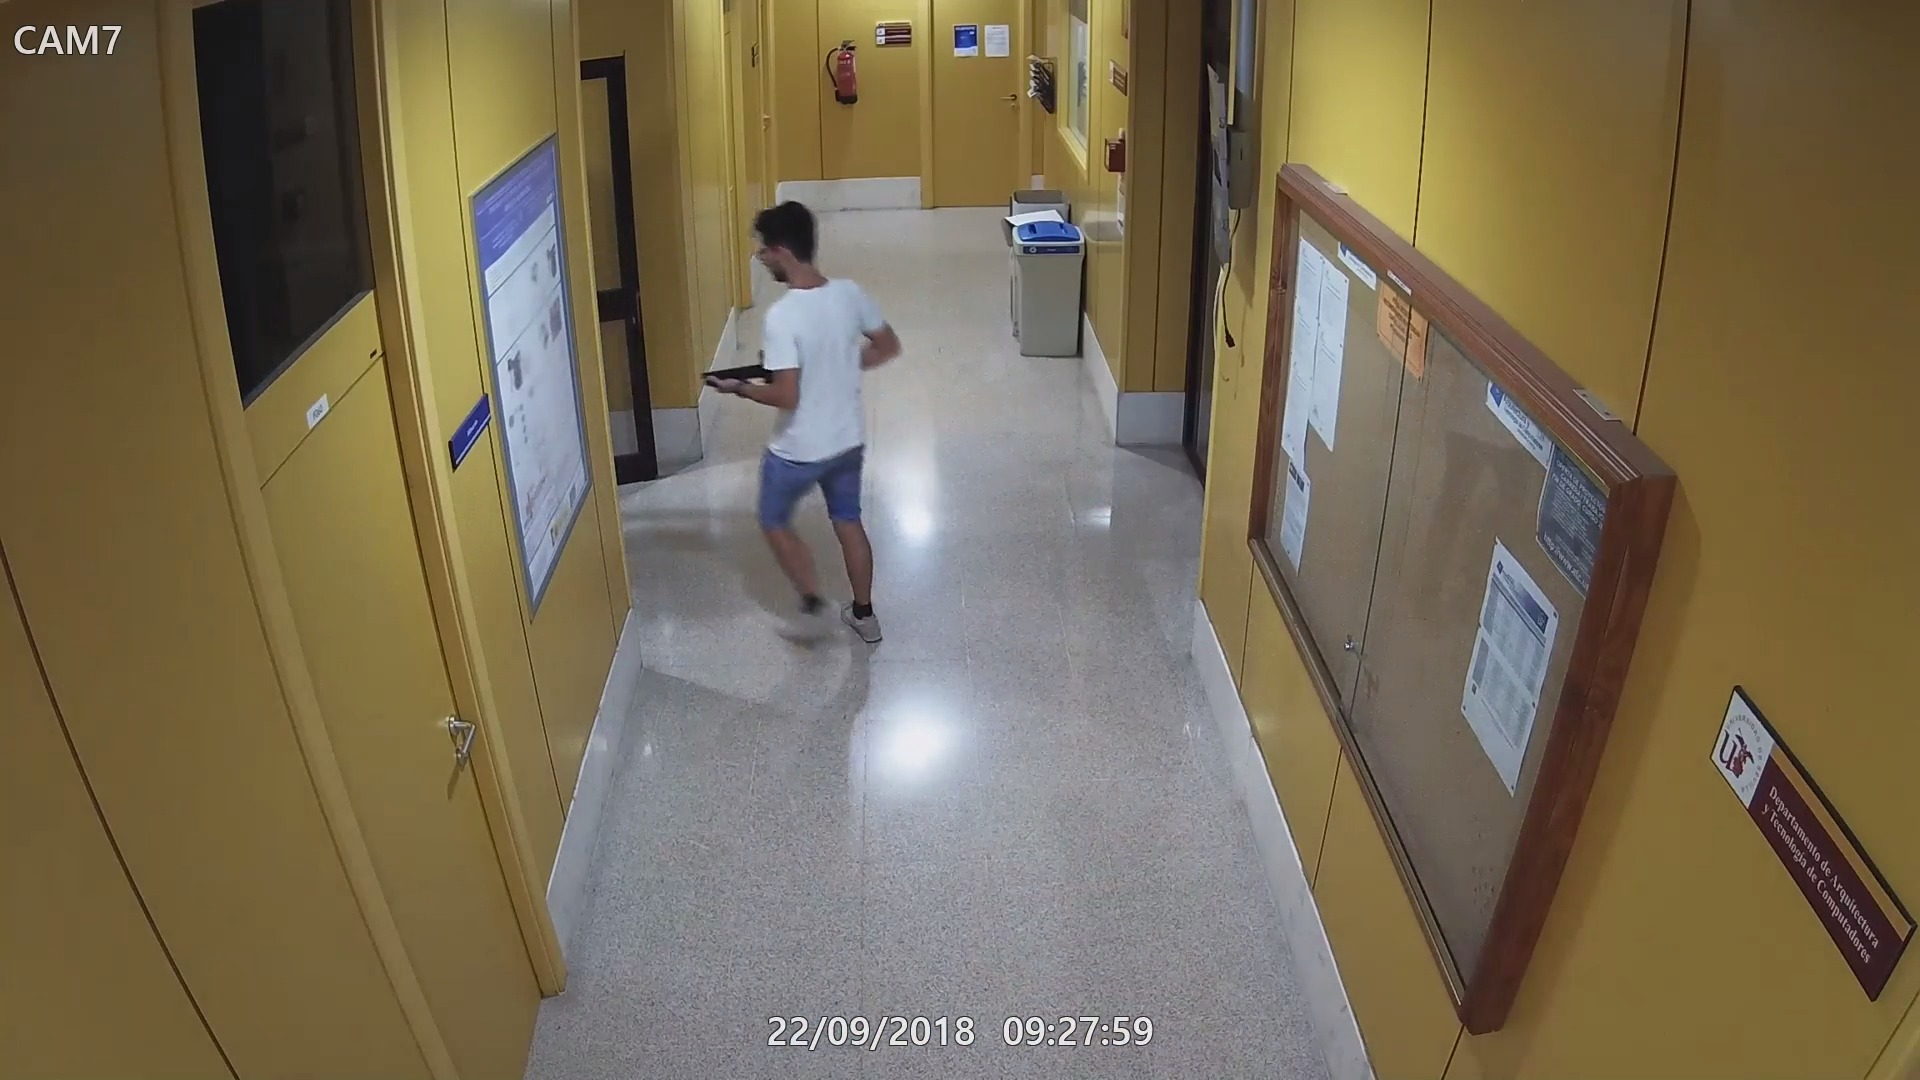rifle: (698, 364, 769, 392)
